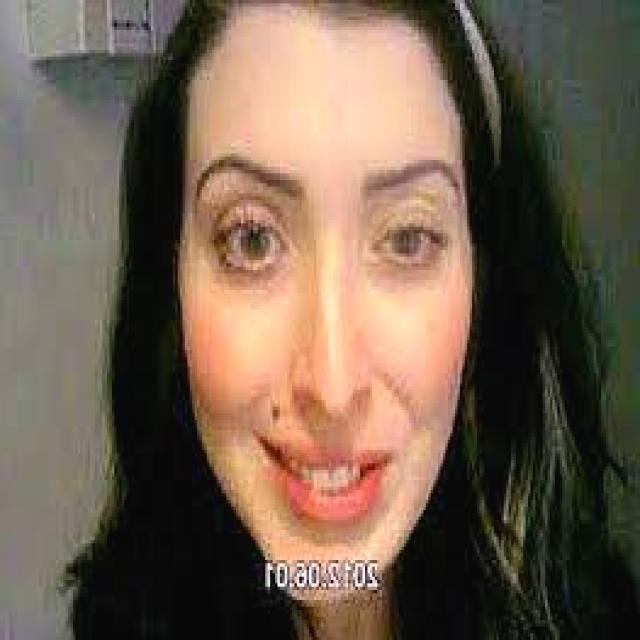stroke_face: (178, 0, 487, 613)
